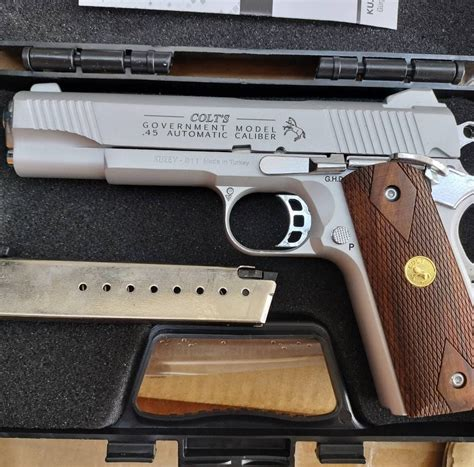gun: (5, 83, 474, 422)
